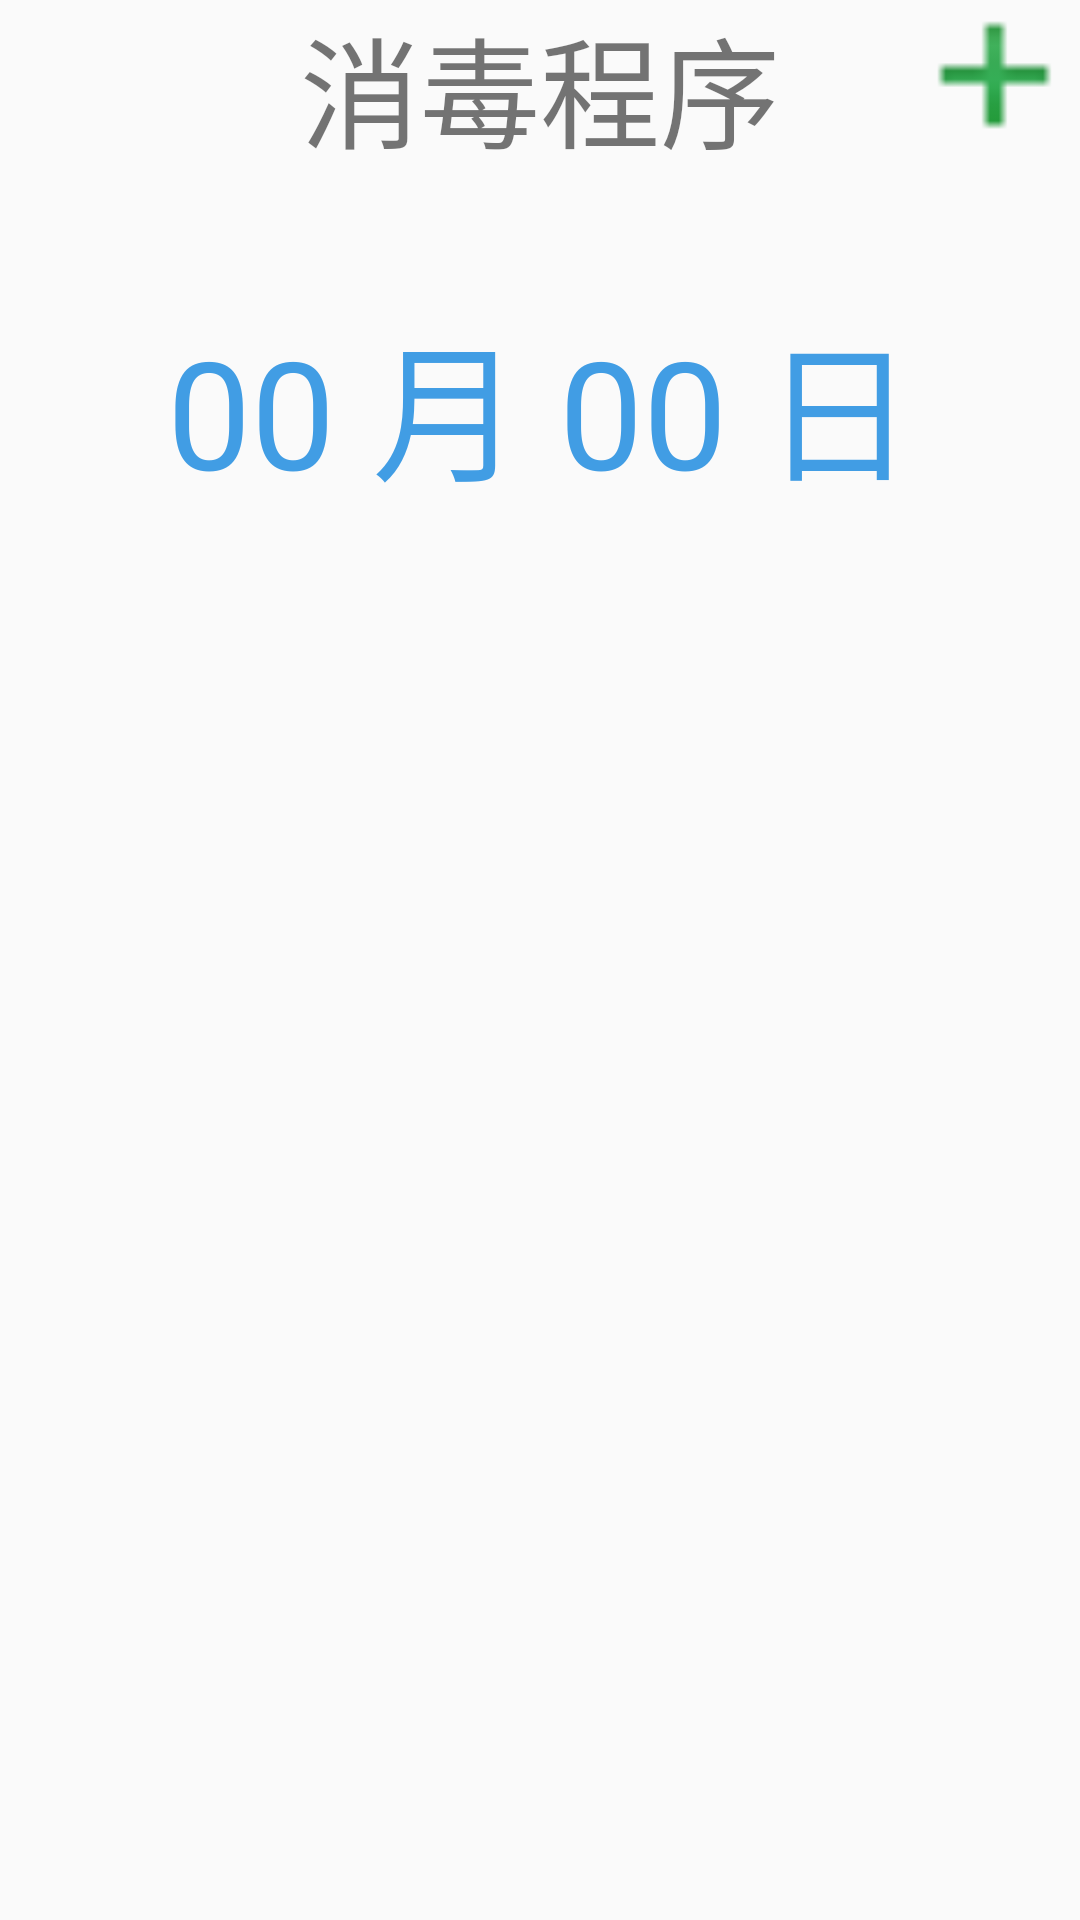

Where icons sit on this 1080px×1920px app screen, as (x1, y1, x2, y2):
studio add: (938, 22, 1051, 128)
